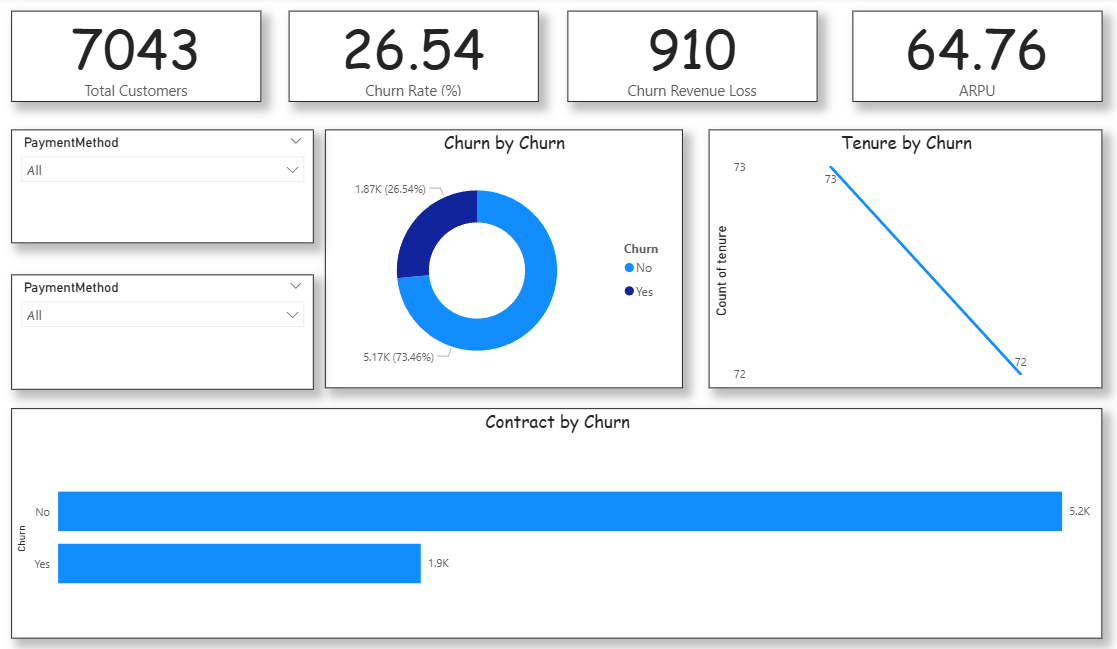

What the dashboard file says about the page in this screenshot:
{"tool":"powerbi","page":{"name":"Business health snapshot","canvas":[1280,720],"ordinal":0},"visuals":[{"type":"card","fields":{"Values":["measure Table.Total Customers"]},"box":[28.8,15.1,274.4,100.2],"z":0},{"type":"card","fields":{"Values":["measure Table.ARPU"]},"box":[952.3,15.1,274.4,100.2],"z":1000},{"type":"card","fields":{"Values":["measure Table.Churn Revenue Loss"]},"box":[639.5,15.1,274.4,100.2],"z":2000},{"type":"card","fields":{"Values":["measure Table.Churn Rate (%)"]},"box":[333.4,15.1,274.4,100.2],"z":3000},{"type":"donutChart","title":"Churn by Churn","fields":{"Y":["CountNonNull(churn.Churn)"],"Category":["churn.Churn"]},"box":[373.2,145.5,392.5,284],"z":4000},{"type":"lineChart","title":" Tenure by Churn","fields":{"Category":["churn.Churn"],"Y":["Count(churn.tenure)"]},"box":[794.5,145.5,432.2,284],"z":5000},{"type":"clusteredBarChart","title":"Contract by Churn","fields":{"Category":["churn.Churn"],"Y":["CountNonNull(churn.Contract)"]},"box":[28.8,451.5,1197.9,252.5],"z":6000},{"type":"slicer","fields":{"Values":["churn.PaymentMethod"]},"box":[28.8,145.5,332.1,124.9],"z":7000},{"type":"slicer","fields":{"Values":["churn.PaymentMethod"]},"box":[28.8,304.6,332.1,126.2],"z":8000}]}

Visuals, with their boxes on the page's 1280x720 design canvas (x1, y1, x2, y2). These are canvas units, not pixel positions in the 1117x649 screenshot, which may show the page scaled, cropped or inside an application window:
card - measure Table.Total Customers: (29, 15, 303, 115)
card - measure Table.ARPU: (952, 15, 1227, 115)
card - measure Table.Churn Revenue Loss: (640, 15, 914, 115)
card - measure Table.Churn Rate (%): (333, 15, 608, 115)
"Churn by Churn" donutChart: (373, 146, 766, 430)
" Tenure by Churn" lineChart: (794, 146, 1227, 430)
"Contract by Churn" clusteredBarChart: (29, 452, 1227, 704)
slicer - churn.PaymentMethod: (29, 146, 361, 270)
slicer - churn.PaymentMethod: (29, 305, 361, 431)
